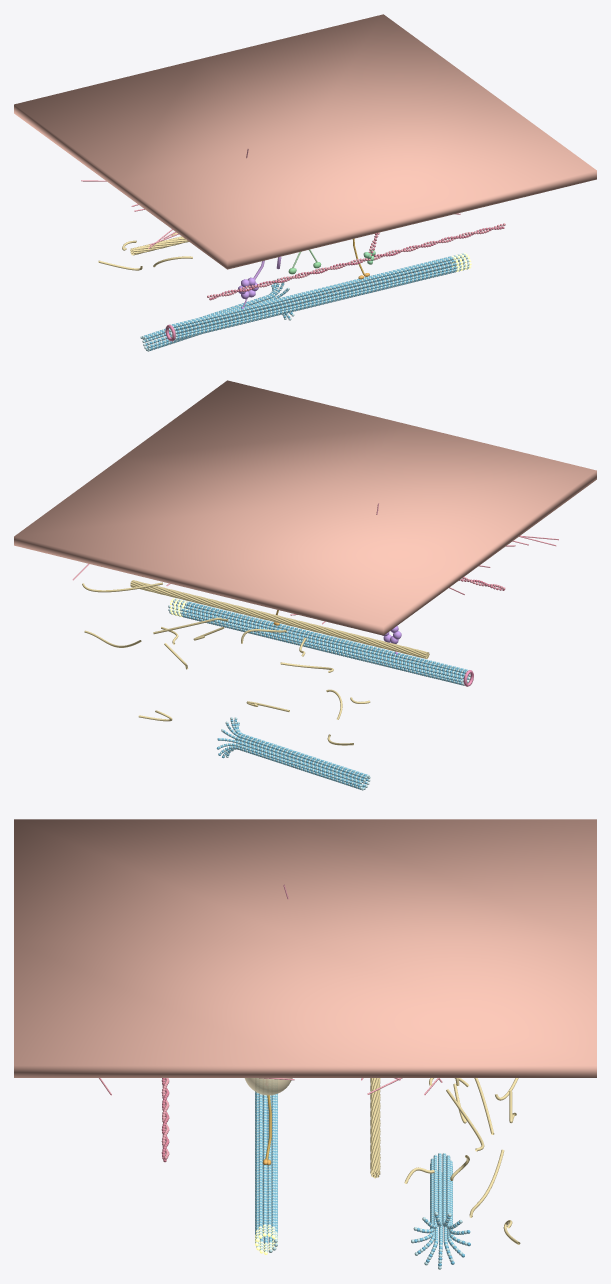
File: cytoskeleton.glb
3 renders of one model, top to bottom at view 1: azimuth 30°, elevation 25°; view 2: azimuth 150°, elevation 25°; view 3: azimuth 270°, elevation 25°, orthographic. The views are drawn at different scales.
Visible parts, largest first — view 1: Plasma Membrane (context), Microtubule - Alpha Tubulin, Microtubule - Beta Tubulin, Actin Filament (strand 1), Actin Filament (strand 2), Shrinking Microtubule - Alpha, Shrinking Microtubule - Beta; view 2: Plasma Membrane (context), Microtubule - Alpha Tubulin, Microtubule - Beta Tubulin, Intermediate Filament (keratin/vimentin), Shrinking Microtubule - Alpha, Shrinking Microtubule - Beta, Intermediate Filament Network; view 3: Plasma Membrane (context), Microtubule - Alpha Tubulin, Microtubule - Beta Tubulin, Shrinking Microtubule - Alpha, Shrinking Microtubule - Beta, Intermediate Filament Network, Intermediate Filament (keratin/vimentin), Kinesin-1 Cargo Vesicle.
Part boxes in pixels (bbox=[...]): Plasma Membrane (context): bbox=[14, 14, 596, 269]; Microtubule - Alpha Tubulin: bbox=[169, 253, 469, 340]; Microtubule - Beta Tubulin: bbox=[172, 256, 455, 340]; Actin Filament (strand 1): bbox=[207, 223, 505, 297]; Actin Filament (strand 2): bbox=[209, 226, 504, 300]; Shrinking Microtubule - Alpha: bbox=[140, 278, 294, 351]; Shrinking Microtubule - Beta: bbox=[144, 283, 292, 350]; Plasma Membrane (context): bbox=[14, 380, 596, 635]; Microtubule - Alpha Tubulin: bbox=[168, 598, 470, 685]; Microtubule - Beta Tubulin: bbox=[182, 602, 468, 685]; Intermediate Filament (keratin/vimentin): bbox=[130, 580, 429, 658]; Shrinking Microtubule - Alpha: bbox=[218, 717, 370, 790]; Shrinking Microtubule - Beta: bbox=[216, 719, 367, 789]; Intermediate Filament Network: bbox=[82, 582, 370, 745]; Plasma Membrane (context): bbox=[14, 819, 596, 1077]; Microtubule - Alpha Tubulin: bbox=[255, 1092, 277, 1252]; Microtubule - Beta Tubulin: bbox=[255, 1091, 277, 1242]; Shrinking Microtubule - Alpha: bbox=[411, 1153, 467, 1269]; Shrinking Microtubule - Beta: bbox=[414, 1154, 470, 1266]; Intermediate Filament Network: bbox=[404, 1078, 520, 1244]; Intermediate Filament (keratin/vimentin): bbox=[370, 1078, 380, 1178]; Kinesin-1 Cargo Vesicle: bbox=[244, 1078, 292, 1095].
Bounding box in the file's own units: 15.81 × 9.14 × 15.
